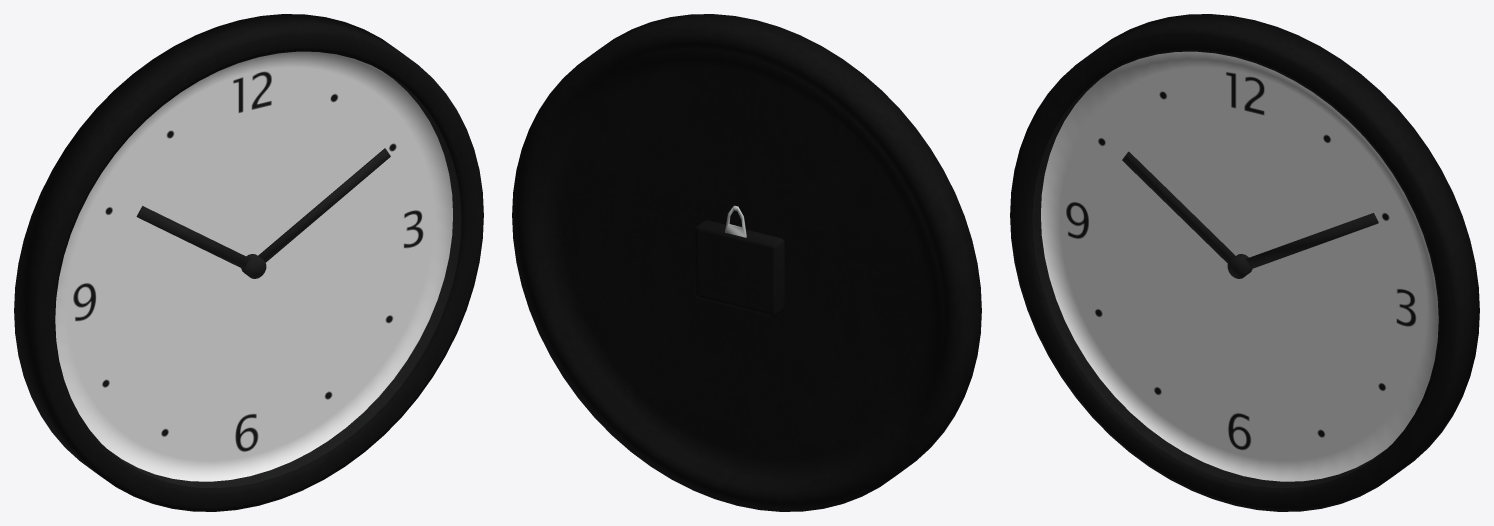
The model's file is cc0_-_wall_clock_3.glb.
The picture shows the model from 3 angles, left to right: view 1: azimuth 30°, elevation 25°; view 2: azimuth 150°, elevation 25°; view 3: azimuth 330°, elevation 25°; orthographic projection.
Visible parts, largest first — view 1: WallClock3; view 2: WallClock3; view 3: WallClock3.
Part boxes in pixels (<box>): WallClock3: <box>14,14,483,511</box>; WallClock3: <box>512,14,981,511</box>; WallClock3: <box>1010,14,1479,511</box>.
Bounding box in the file's own units: 0.305 × 0.305 × 0.0269.
1 material, 1 textured.
